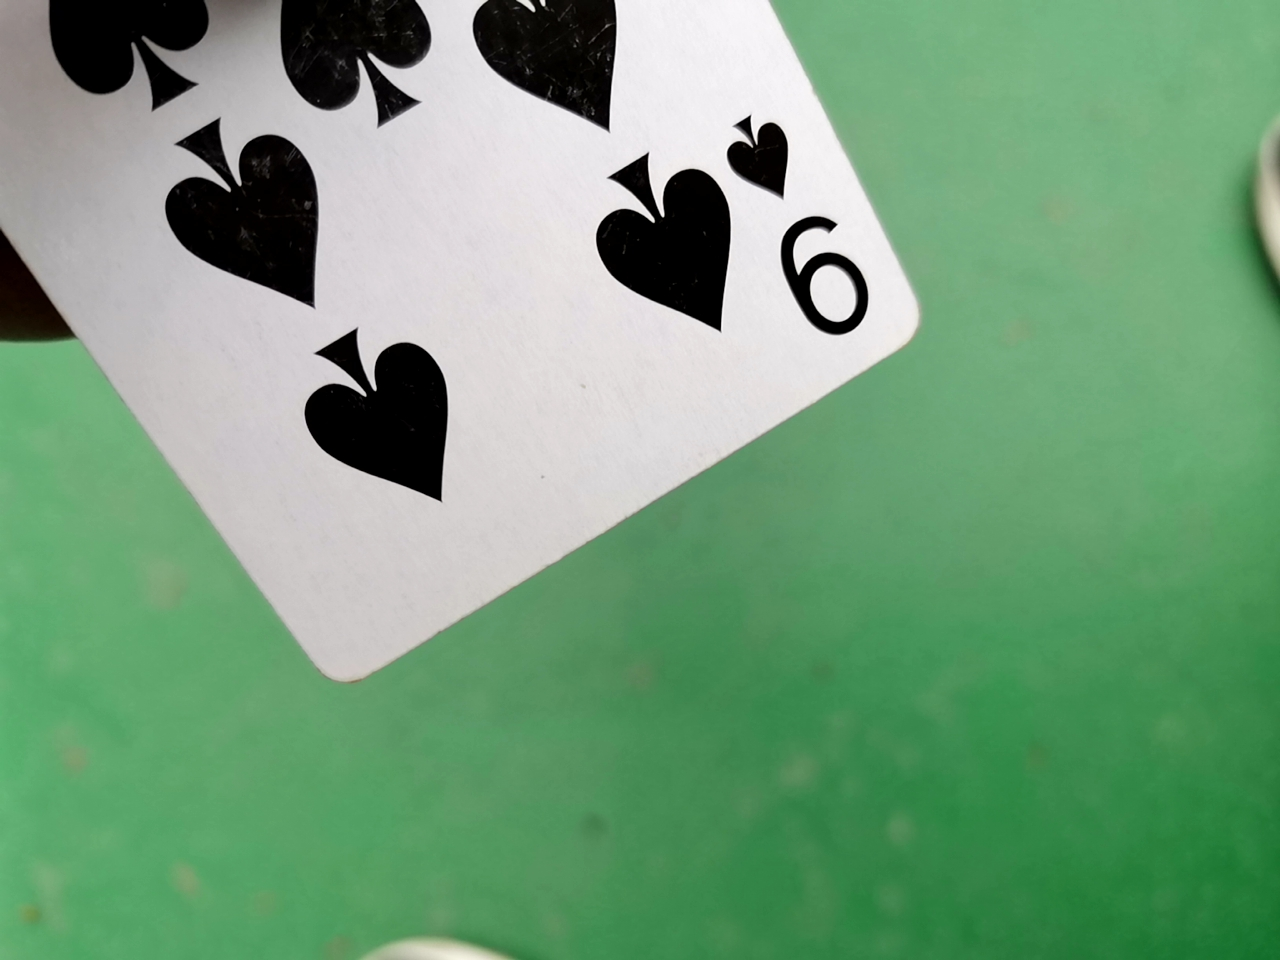ht 9: (5, 4, 962, 714)
